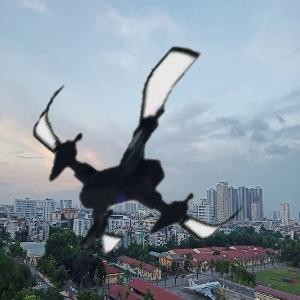drone: (27, 39, 261, 273)
